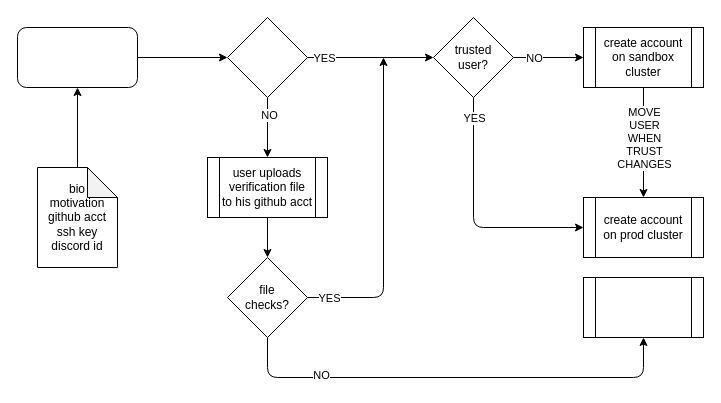
Image size: 721x403. Some labels were removed from this diagram. Each missing label, with the centre of its shape:
core member vetting: the point at 267,57
reject request: the point at 643,307
user requests cluster access: the point at 77,57
